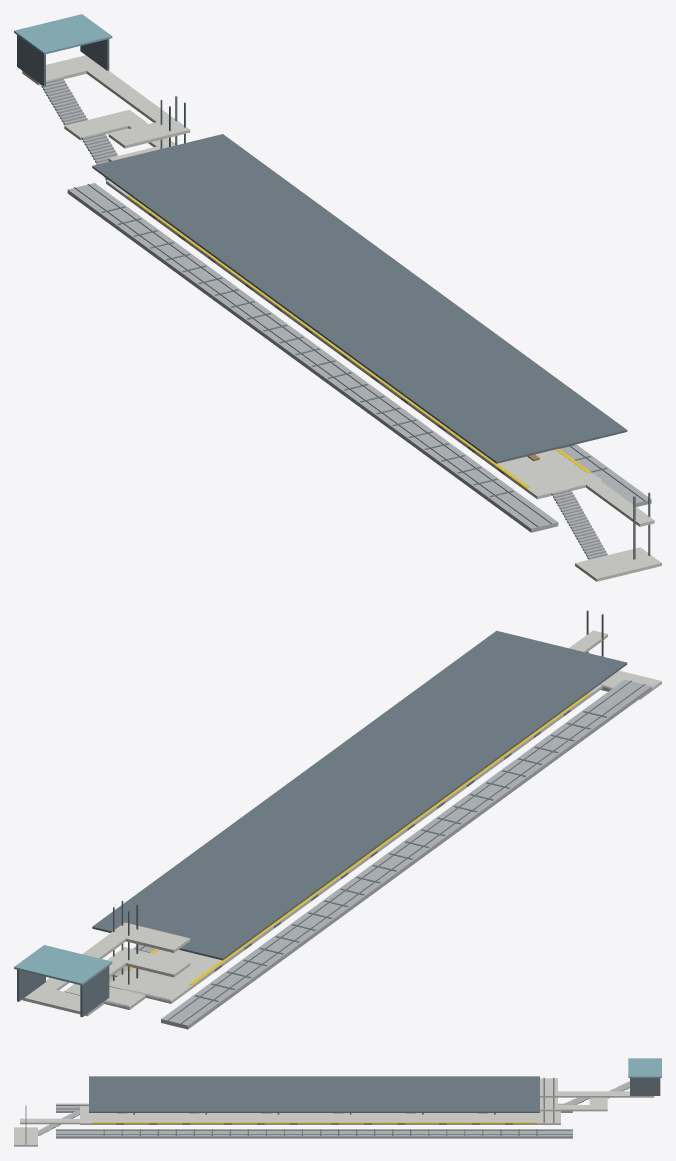
File: stadium-chinatown.glb
3 views of the same model, one above another, from view 1: azimuth 30°, elevation 25°; view 2: azimuth 150°, elevation 25°; view 3: azimuth 270°, elevation 25° (orthographic). The views are drawn at different scales.
Parts seen in each view (by area): view 1: batch-removable-roof-steel, batch-trackbed-concrete, batch-stair-tread-concrete, floor-stadium-expo, batch-rail-steel, batch-removable-roof-glass, floor-stadium-expo-lift-side, floor-pacific-entry, batch-static-steel, batch-static-yellow, floor-stadium-expo-landing-1, floor-pacific-lift-upper (+3 smaller); view 2: batch-removable-roof-steel, batch-trackbed-concrete, batch-rail-steel, floor-stadium-expo, batch-removable-roof-glass, batch-static-steel, floor-stadium-expo-landing, batch-static-yellow, floor-stadium-expo-lift-upper, floor-stadium-expo-lift-side, floor-stadium-expo-landing-2, floor-stadium-expo-lift-mid-1 (+2 smaller); view 3: batch-removable-roof-steel, batch-trackbed-concrete, floor-stadium-expo, batch-rail-steel, batch-static-yellow, batch-removable-roof-glass, floor-stadium-expo-lift-side, batch-static-steel, floor-pacific-entry, floor-pacific-lift-upper, batch-stair-tread-concrete, floor-stadium-expo-landing (+6 smaller).
Boxes of the visible parts, x1,y1,x2,y2 form: batch-removable-roof-steel: (92, 134, 627, 463); batch-trackbed-concrete: (67, 183, 651, 532); batch-stair-tread-concrete: (40, 77, 607, 559); floor-stadium-expo: (127, 196, 587, 491); batch-rail-steel: (74, 184, 645, 527); batch-removable-roof-glass: (14, 14, 112, 54); floor-stadium-expo-lift-side: (71, 55, 189, 136); floor-pacific-entry: (575, 547, 661, 581); batch-static-steel: (17, 35, 109, 86); batch-static-yellow: (128, 195, 591, 488); floor-stadium-expo-landing-1: (64, 110, 145, 140); floor-pacific-lift-upper: (576, 473, 654, 526); batch-removable-roof-steel: (92, 630, 627, 960); batch-trackbed-concrete: (109, 679, 651, 1029); batch-rail-steel: (112, 680, 645, 1023); floor-stadium-expo: (132, 693, 591, 987); batch-removable-roof-glass: (14, 945, 112, 985); batch-static-steel: (17, 966, 109, 1017); floor-stadium-expo-landing: (109, 969, 192, 1003); batch-static-yellow: (129, 692, 591, 984); floor-stadium-expo-lift-upper: (109, 922, 190, 952); floor-stadium-expo-lift-side: (23, 922, 141, 1004); floor-stadium-expo-landing-2: (22, 986, 103, 1016); floor-stadium-expo-lift-mid-1: (109, 947, 190, 977); batch-removable-roof-steel: (89, 1076, 539, 1112); batch-trackbed-concrete: (56, 1103, 572, 1138); floor-stadium-expo: (92, 1113, 536, 1124); batch-rail-steel: (56, 1105, 572, 1135); batch-static-yellow: (92, 1122, 536, 1123); batch-removable-roof-glass: (628, 1058, 661, 1077); floor-stadium-expo-lift-side: (540, 1091, 635, 1097); batch-static-steel: (133, 1078, 660, 1114); floor-pacific-entry: (14, 1127, 37, 1146); floor-pacific-lift-upper: (20, 1118, 91, 1124); batch-stair-tread-concrete: (38, 1081, 629, 1135); floor-stadium-expo-landing: (537, 1111, 560, 1124).
Size of the model in its own units: 14 by 12.9 by 108.
